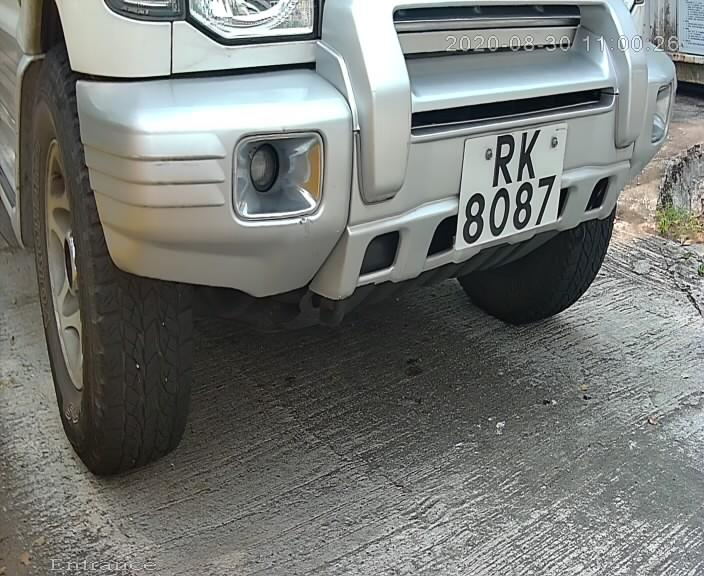License Plate: (444, 111, 579, 260)
